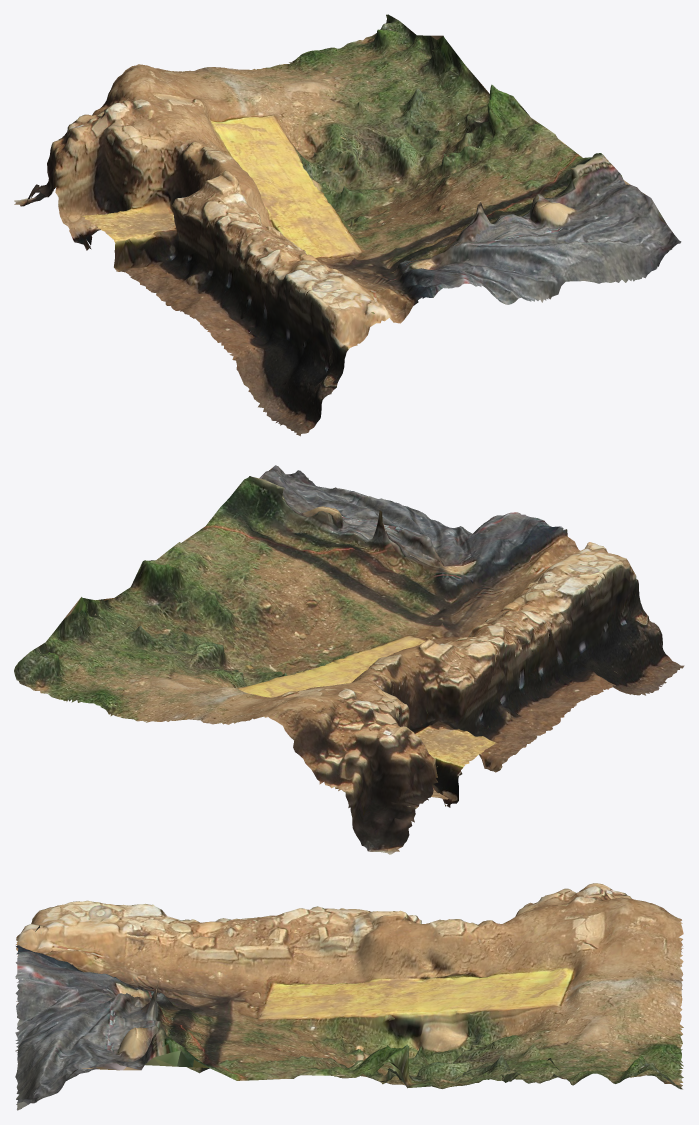
The model's file is Montebelluna_scavo.021_LOD1.gltf.
3 views of the same model, one above another, from view 1: azimuth 30°, elevation 25°; view 2: azimuth 150°, elevation 25°; view 3: azimuth 270°, elevation 25° (orthographic). The views are drawn at different scales.
Parts seen in each view (by area): view 1: Montebelluna_scavo.021_LOD1_SM_Montebelluna_scavo.021_LOD1; view 2: Montebelluna_scavo.021_LOD1_SM_Montebelluna_scavo.021_LOD1; view 3: Montebelluna_scavo.021_LOD1_SM_Montebelluna_scavo.021_LOD1.
Boxes of the visible parts, x1,y1,x2,y2 form: Montebelluna_scavo.021_LOD1_SM_Montebelluna_scavo.021_LOD1: (14, 14, 681, 436); Montebelluna_scavo.021_LOD1_SM_Montebelluna_scavo.021_LOD1: (14, 465, 684, 854); Montebelluna_scavo.021_LOD1_SM_Montebelluna_scavo.021_LOD1: (15, 883, 683, 1110).
Bounding box in the file's own units: 3.36 × 1.24 × 4.37.
Materials: 1 (1 with a texture image).
